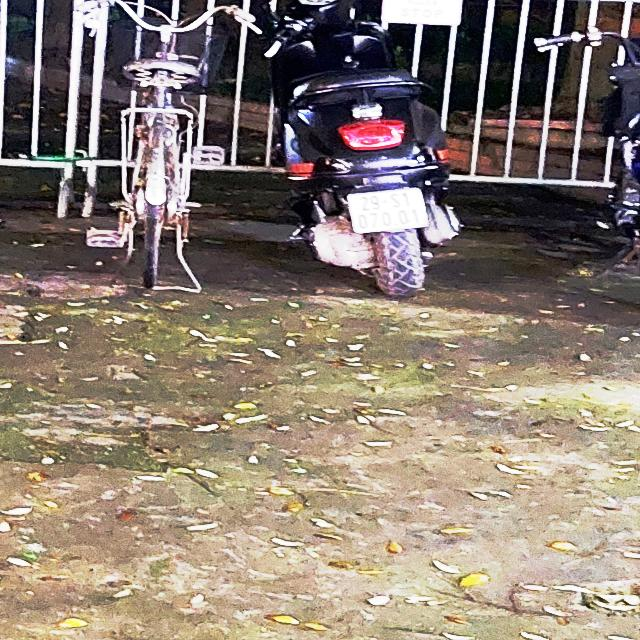license_plate: (346, 187, 433, 236)
